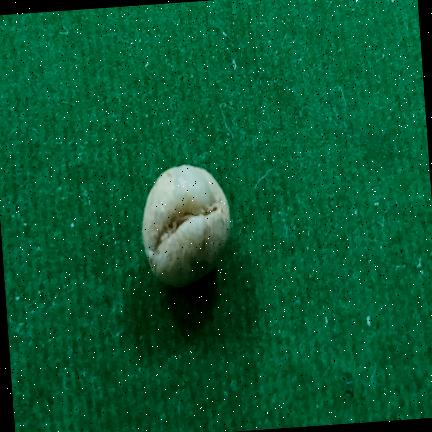cut: (142, 164, 230, 286)
